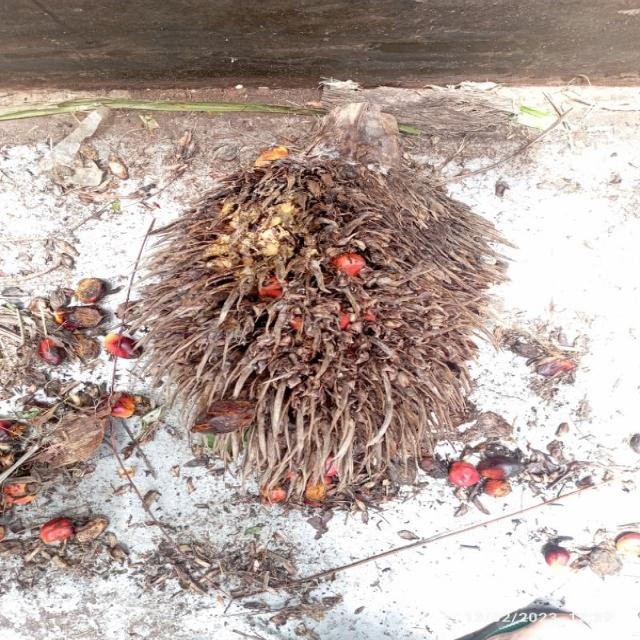fraksi 4: (144, 115, 528, 489)
